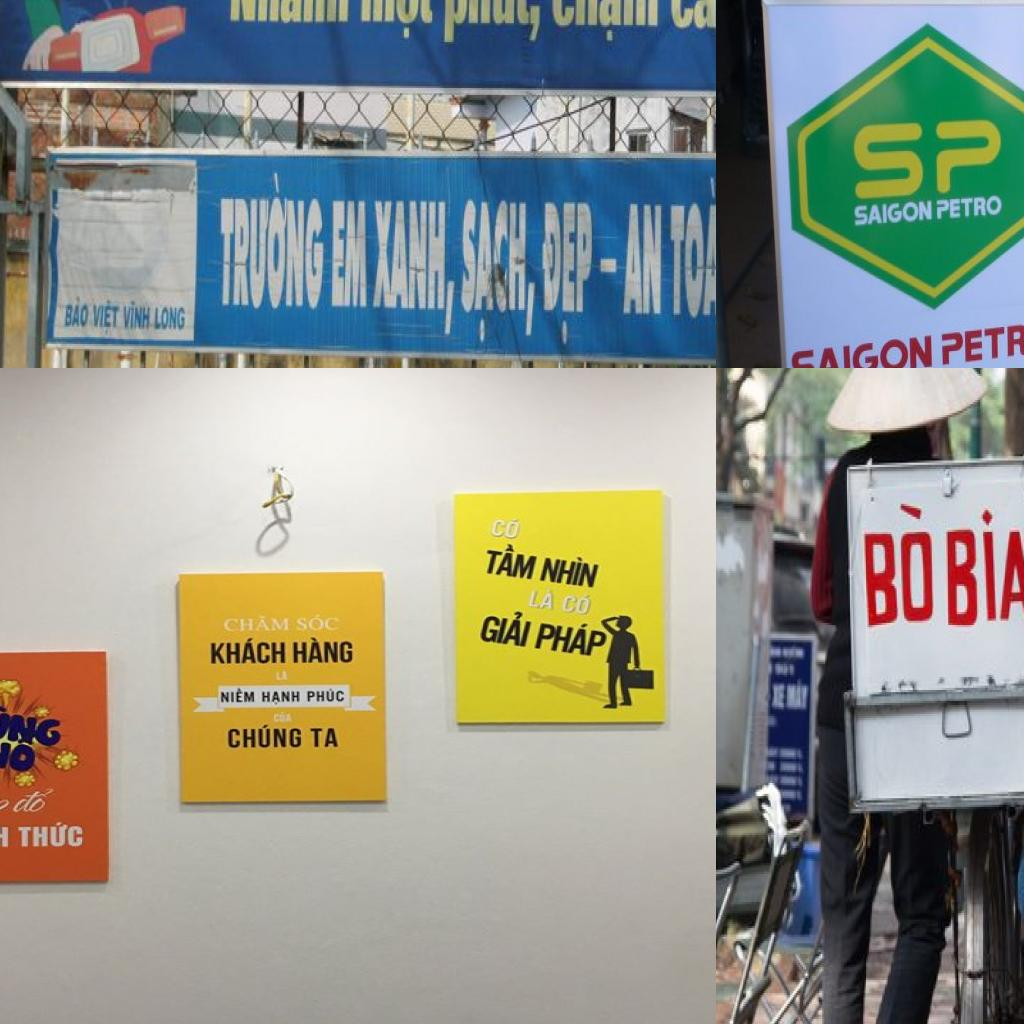text: (216, 166, 326, 318), (852, 116, 1005, 204), (368, 201, 458, 342), (459, 197, 536, 351), (860, 500, 938, 632), (945, 505, 1024, 631), (538, 199, 594, 347), (667, 175, 716, 316), (790, 332, 935, 368), (619, 202, 664, 317), (439, 0, 543, 45), (548, 0, 659, 40), (940, 316, 1024, 368), (330, 199, 369, 308), (536, 614, 614, 665), (0, 695, 72, 748), (227, 0, 350, 25), (473, 603, 537, 650), (359, 0, 436, 38), (852, 196, 935, 230), (532, 551, 606, 588), (480, 538, 543, 580), (206, 634, 290, 665), (222, 722, 306, 749), (291, 635, 358, 667), (935, 194, 1005, 224), (16, 822, 85, 849), (217, 612, 293, 635), (0, 736, 40, 776), (668, 0, 716, 31), (12, 786, 65, 814), (304, 718, 344, 754), (480, 510, 526, 540), (90, 294, 120, 339), (523, 585, 563, 615), (62, 294, 90, 334), (121, 298, 153, 332), (562, 588, 602, 615), (306, 686, 354, 708), (292, 612, 344, 632), (153, 303, 188, 332), (786, 677, 810, 716), (212, 686, 262, 704), (261, 686, 304, 702), (769, 681, 787, 714), (271, 708, 300, 724), (0, 788, 14, 818), (268, 666, 292, 682)
